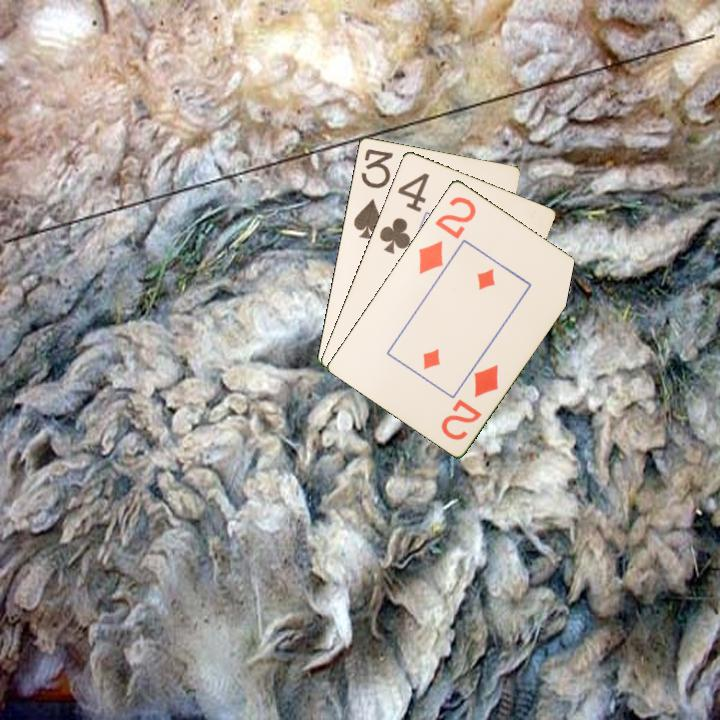2d: (415, 192, 479, 277), (437, 361, 501, 443)
3s: (350, 145, 396, 242)
4c: (375, 169, 432, 257)
